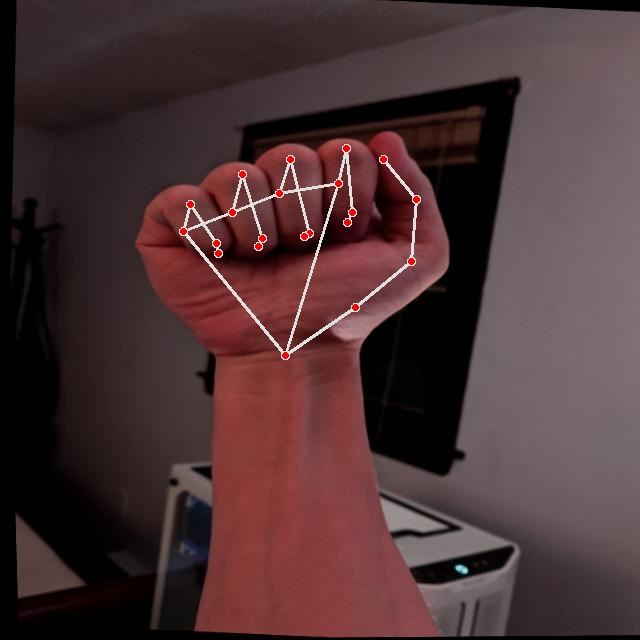A: (112, 111, 466, 388)
